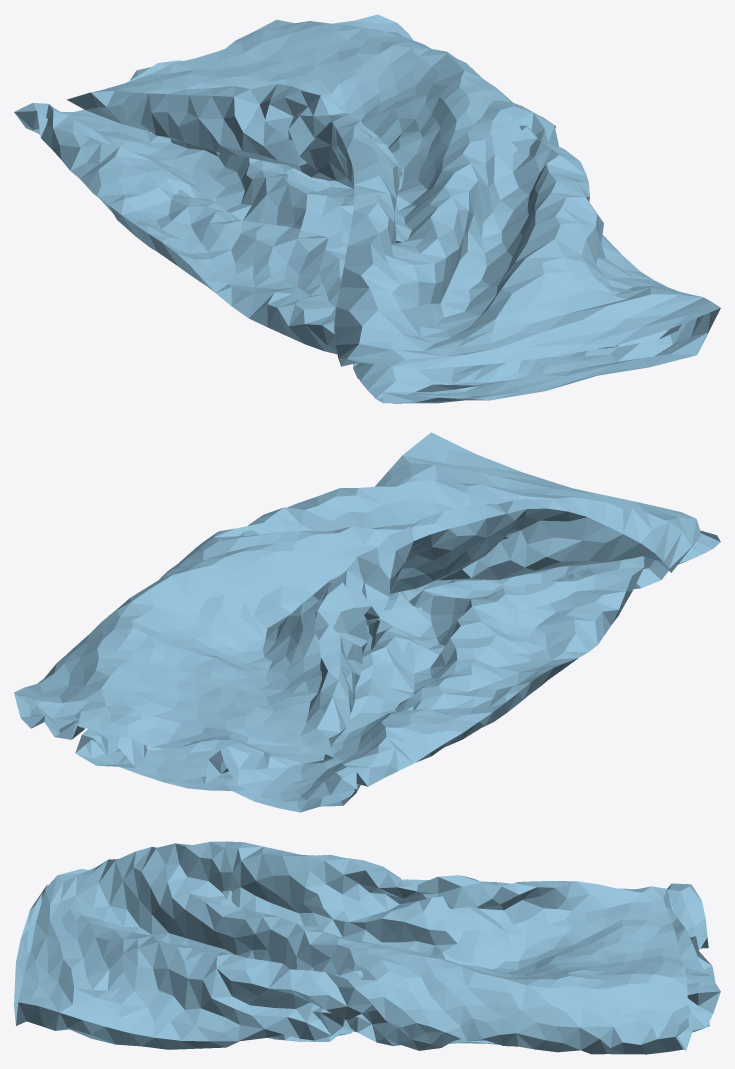
File: frame_20.glb
3 views of the same model, one above another, from view 1: azimuth 30°, elevation 25°; view 2: azimuth 150°, elevation 25°; view 3: azimuth 270°, elevation 25° (orthographic). The views are drawn at different scales.
Visible parts, largest first — view 1: frame_20.obj; view 2: frame_20.obj; view 3: frame_20.obj.
Part boxes in pixels (x1,y1,x2,y2): frame_20.obj: (14, 14, 720, 403); frame_20.obj: (14, 432, 720, 812); frame_20.obj: (14, 841, 720, 1054).
Bounding box in the file's own units: 0.8275 × 0.279 × 1.5.
